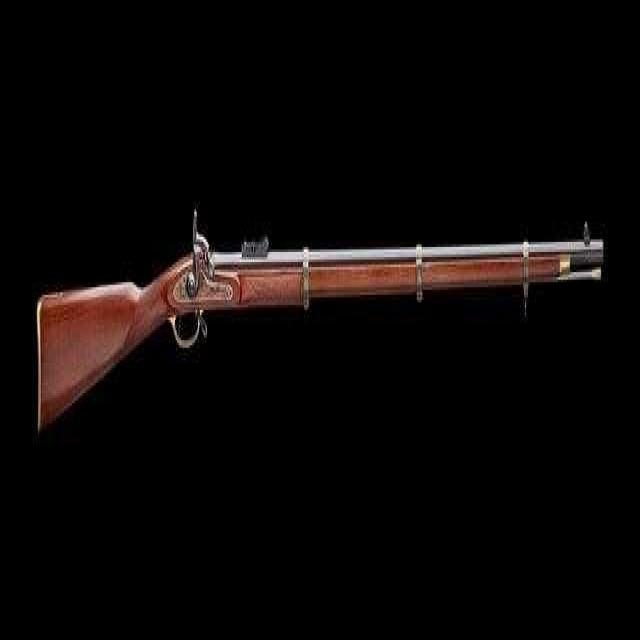heavyweapon: (34, 147, 626, 505)
